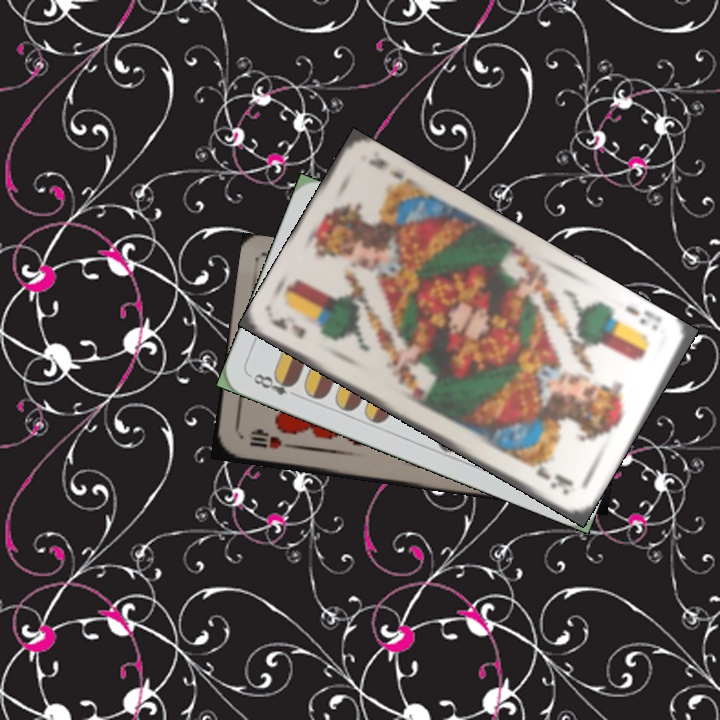E8: (249, 369, 303, 401)
EK: (621, 301, 661, 333), (268, 313, 309, 342)
H10: (245, 429, 297, 451)
